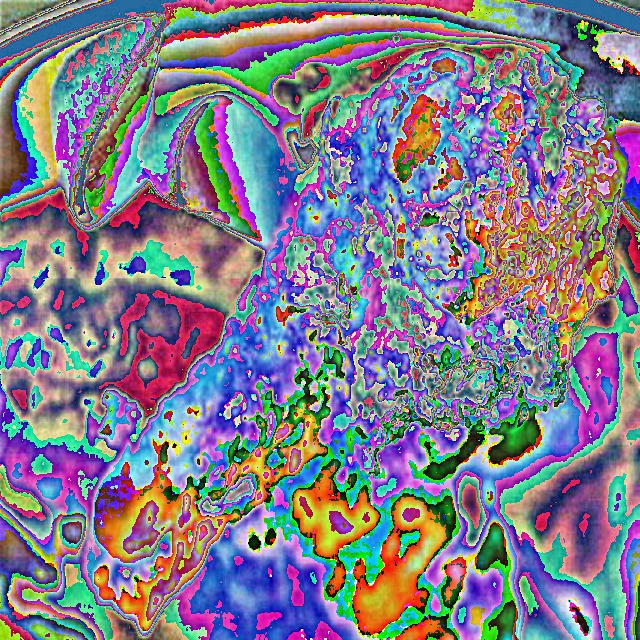background: (0, 15, 640, 639)
